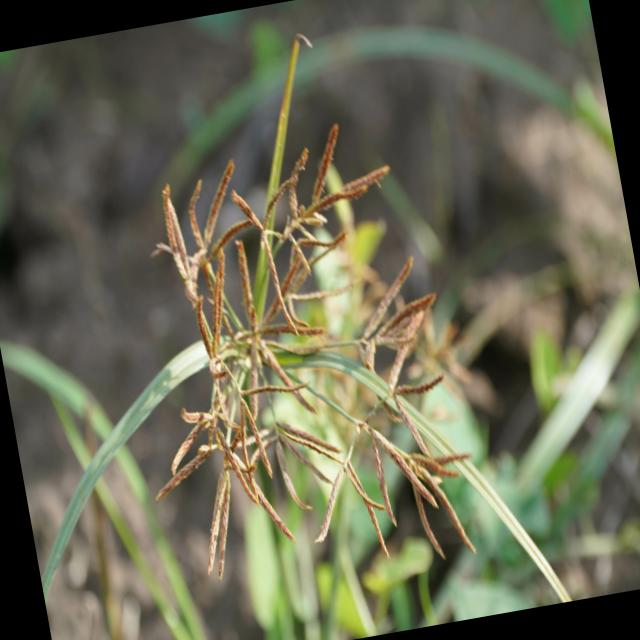cyperus: (85, 68, 493, 614)
